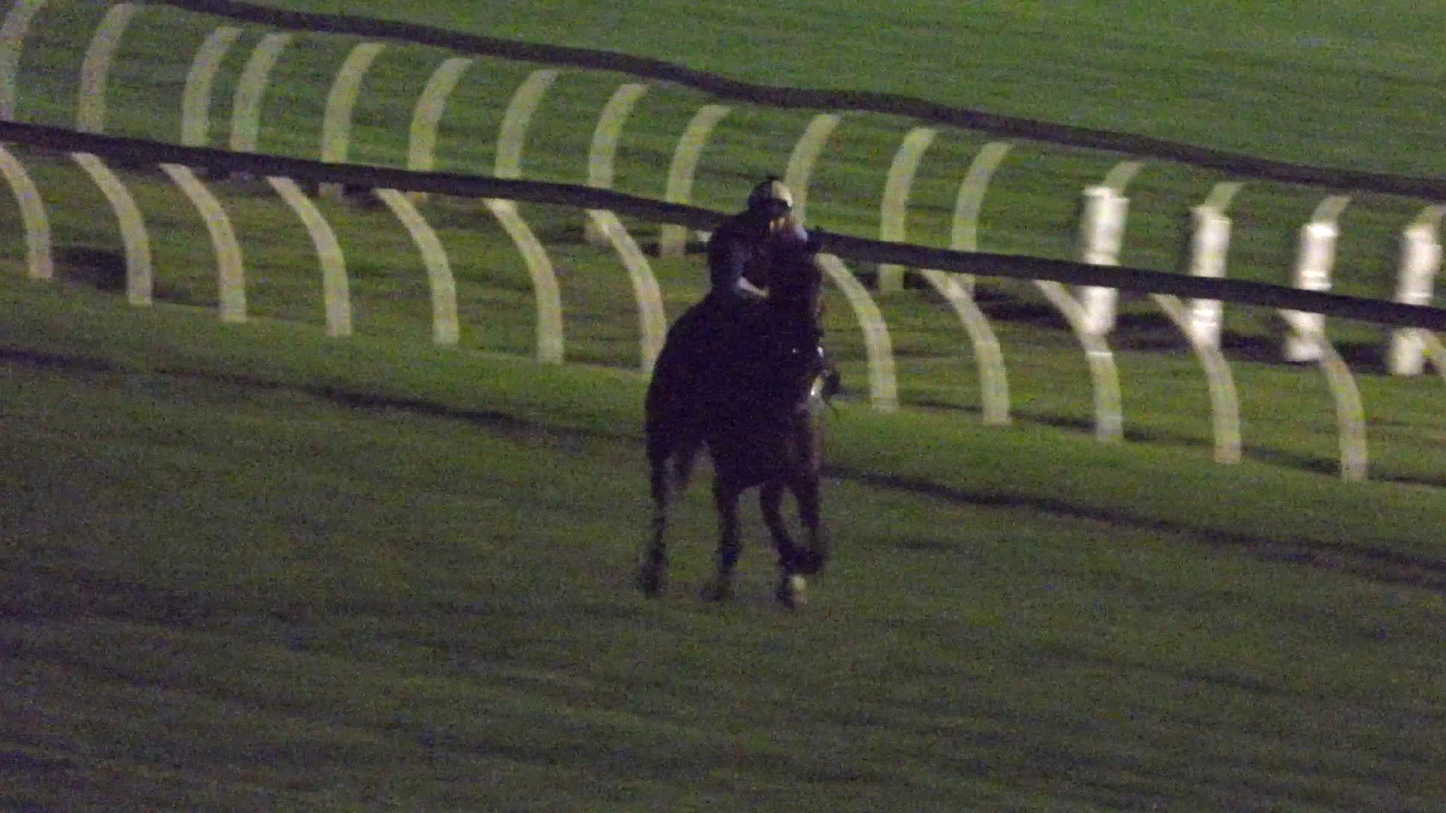racing-horse: (587, 110, 931, 625)
